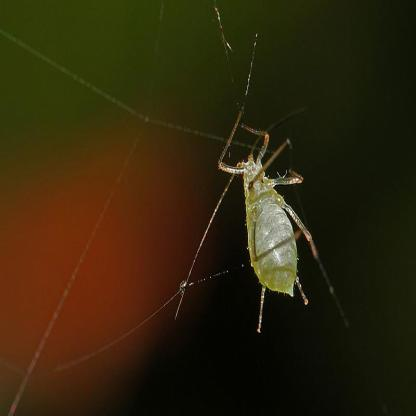aphid: (207, 57, 338, 322)
